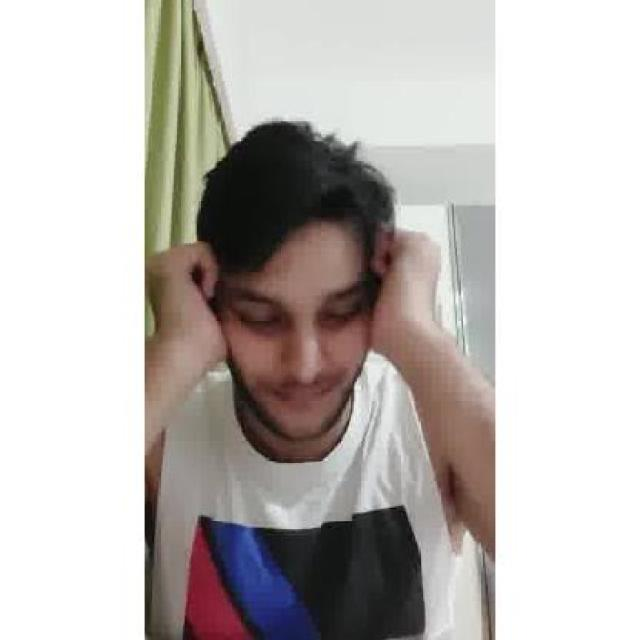inattentif: (202, 119, 383, 442)
